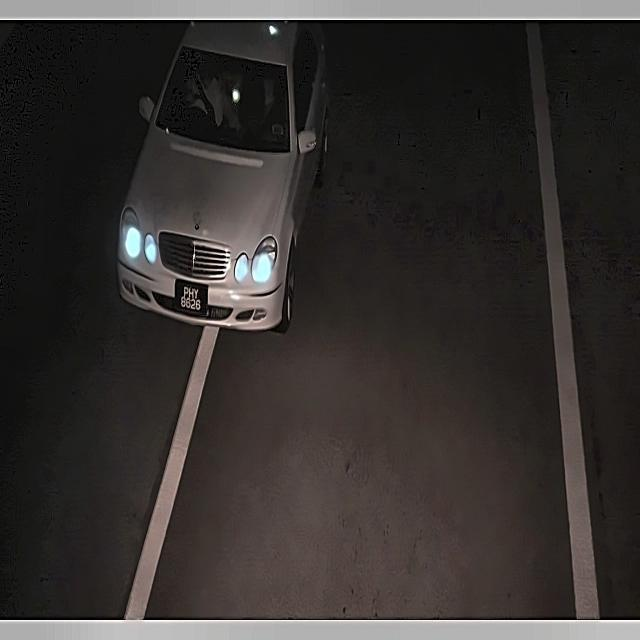car: (170, 272, 214, 322)
